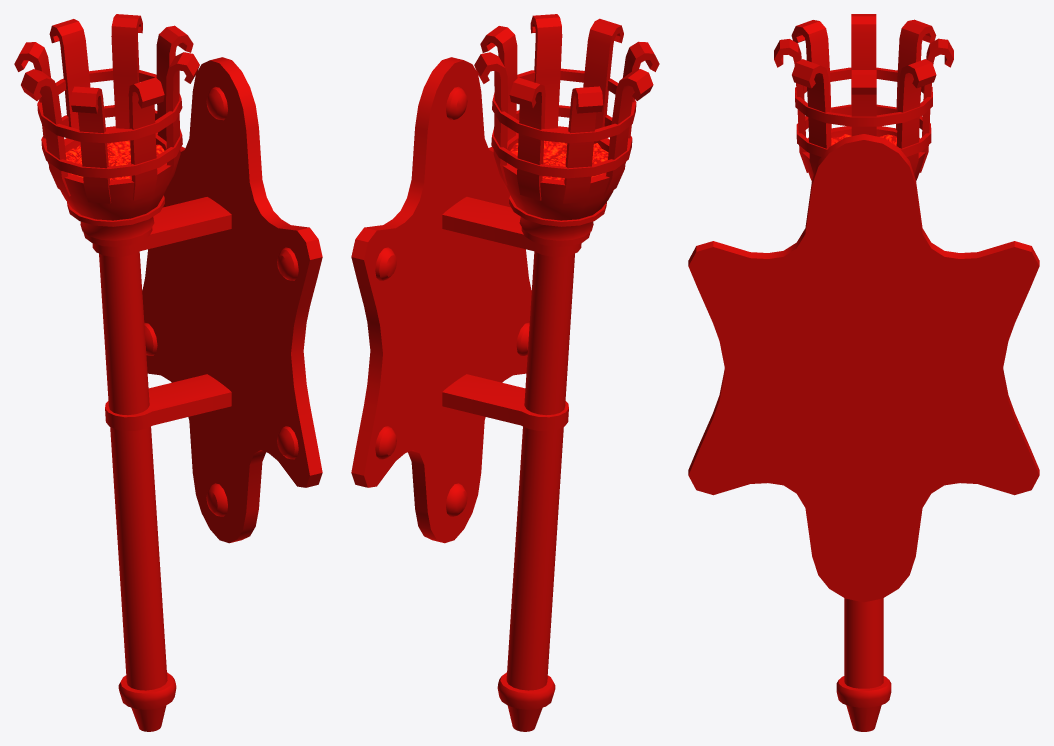
File: Torch1.fbx
3 renders of one model, left to right at view 1: azimuth 30°, elevation 25°; view 2: azimuth 150°, elevation 25°; view 3: azimuth 270°, elevation 25°, orthographic. The views are drawn at different scales.
Parts seen in each view (by area): view 1: Torch2; view 2: Torch2; view 3: Torch2.
Part boxes in pixels (x1,y1,x2,y2): Torch2: (14,14,322,731); Torch2: (351,14,659,731); Torch2: (688,14,1039,731).
Bounding box in the file's own units: 107 × 343 × 163.
